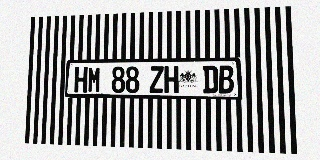8: (111, 66, 125, 93), (125, 66, 139, 93)
B: (218, 65, 234, 93)
D: (203, 65, 218, 93)
H: (164, 66, 178, 93), (74, 67, 88, 92)
M: (87, 67, 101, 93)
Z: (149, 66, 164, 93)
